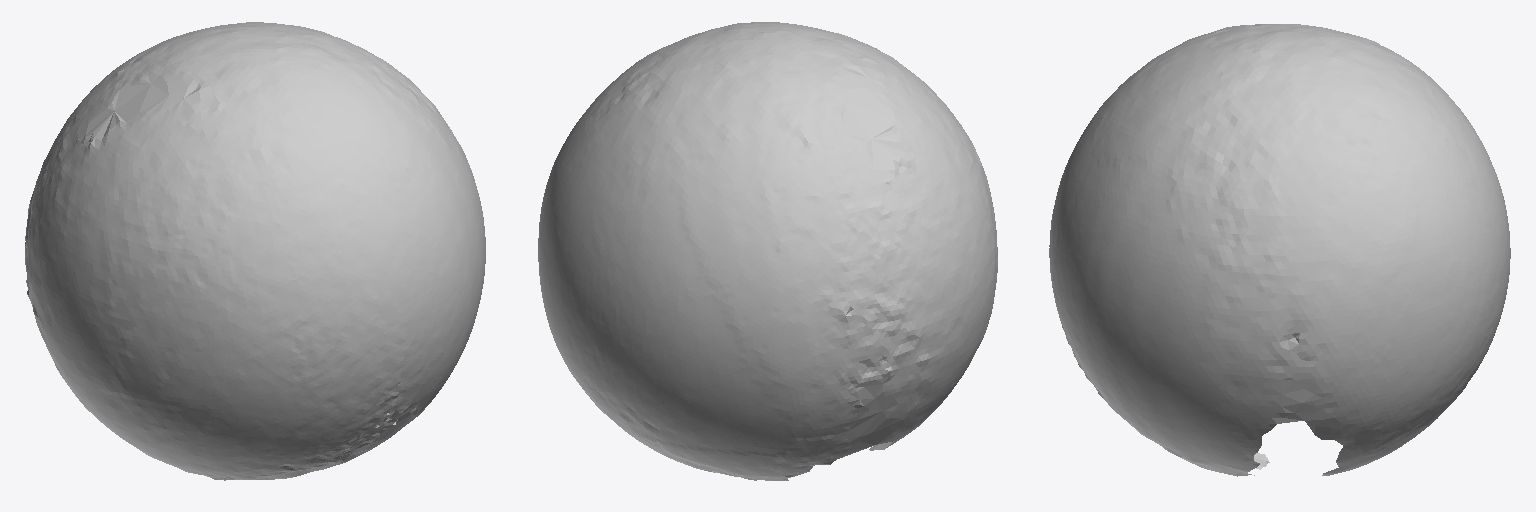
File: Gridtest_1_0_2.000001.obj
The picture shows the model from 3 angles: view 1: azimuth 30°, elevation 25°; view 2: azimuth 150°, elevation 25°; view 3: azimuth 270°, elevation 25°; orthographic projection.
Bounding box in the file's own units: 299 × 303 × 299.